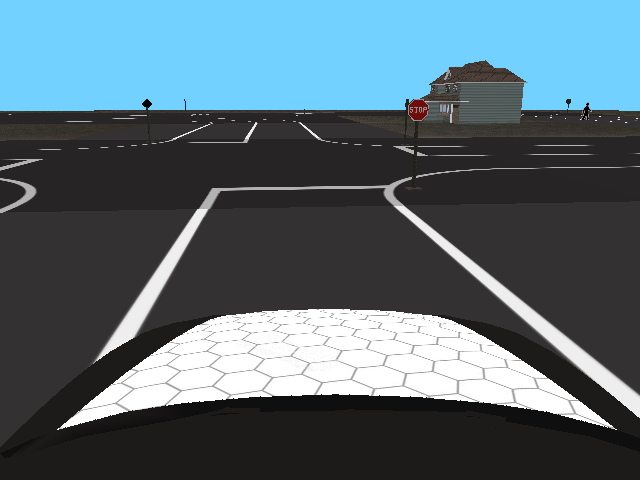stop: (407, 99, 429, 121)
